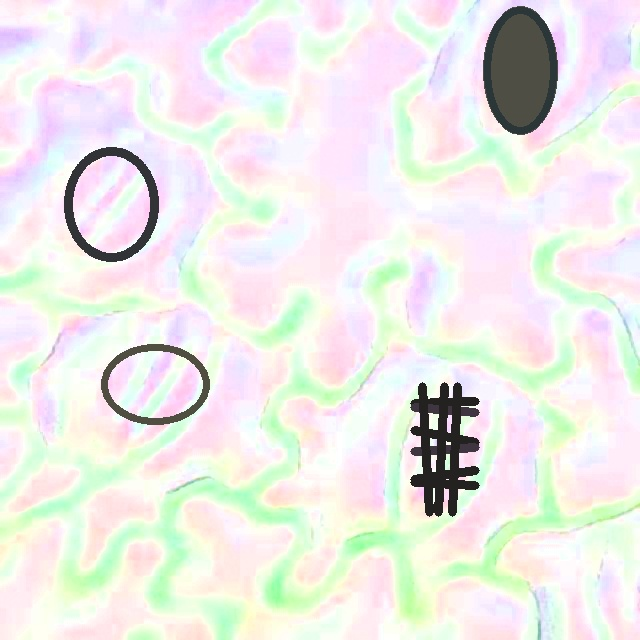close: (483, 6, 557, 135)
open: (63, 147, 159, 261), (410, 382, 479, 516), (101, 343, 210, 426)
